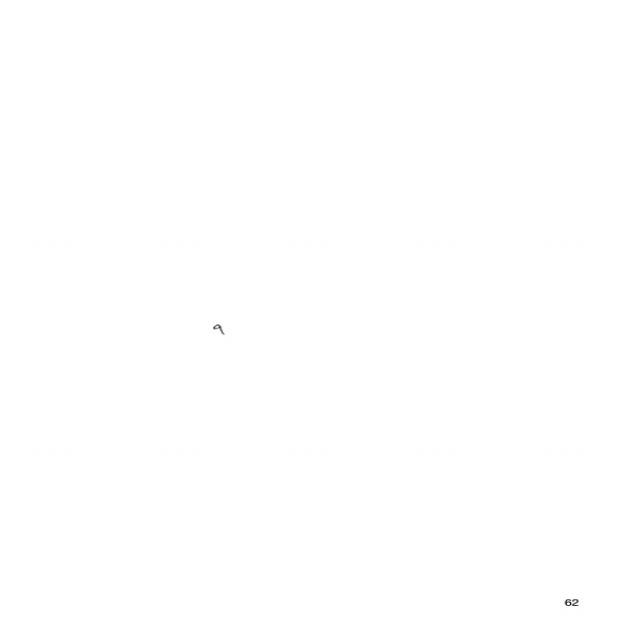9 -nine-: (210, 322, 227, 337)
